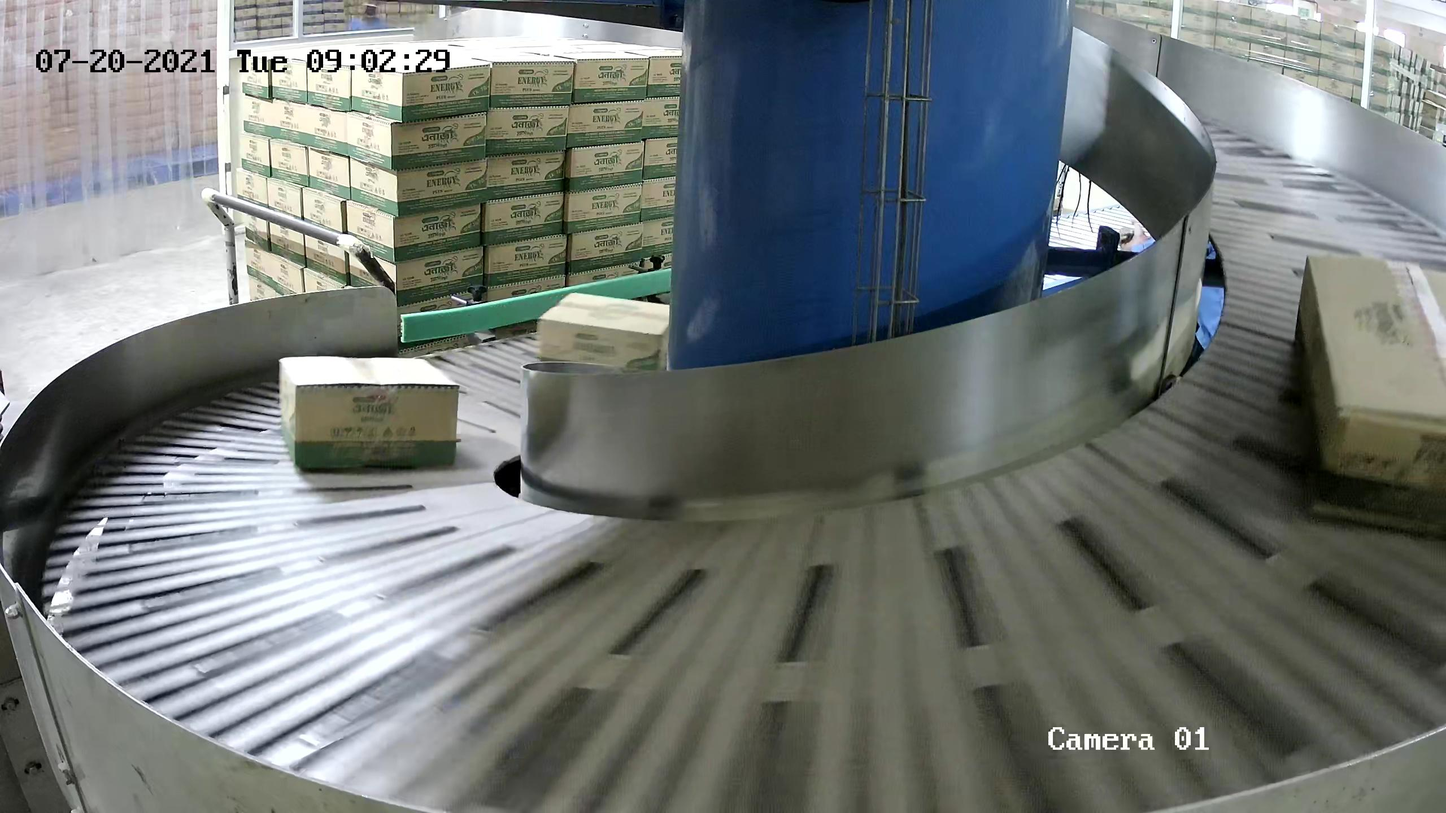Box: (1293, 253, 1446, 542), (278, 355, 461, 470), (536, 292, 676, 380)
